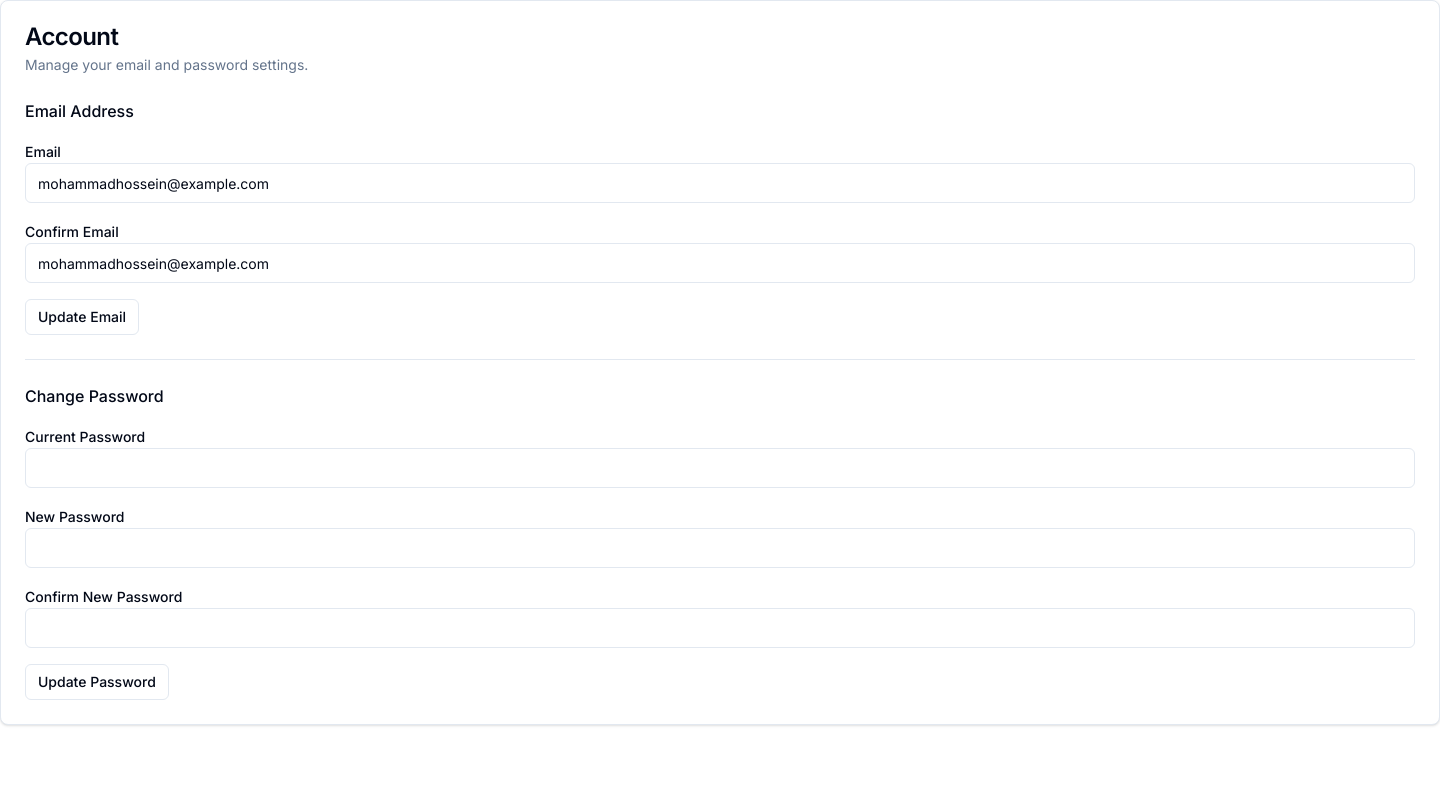
Test: AccountTab › validates the email form
Clear the field labelled "Email" at [720, 183], box top-left (25, 163), bottom-right (1415, 203)
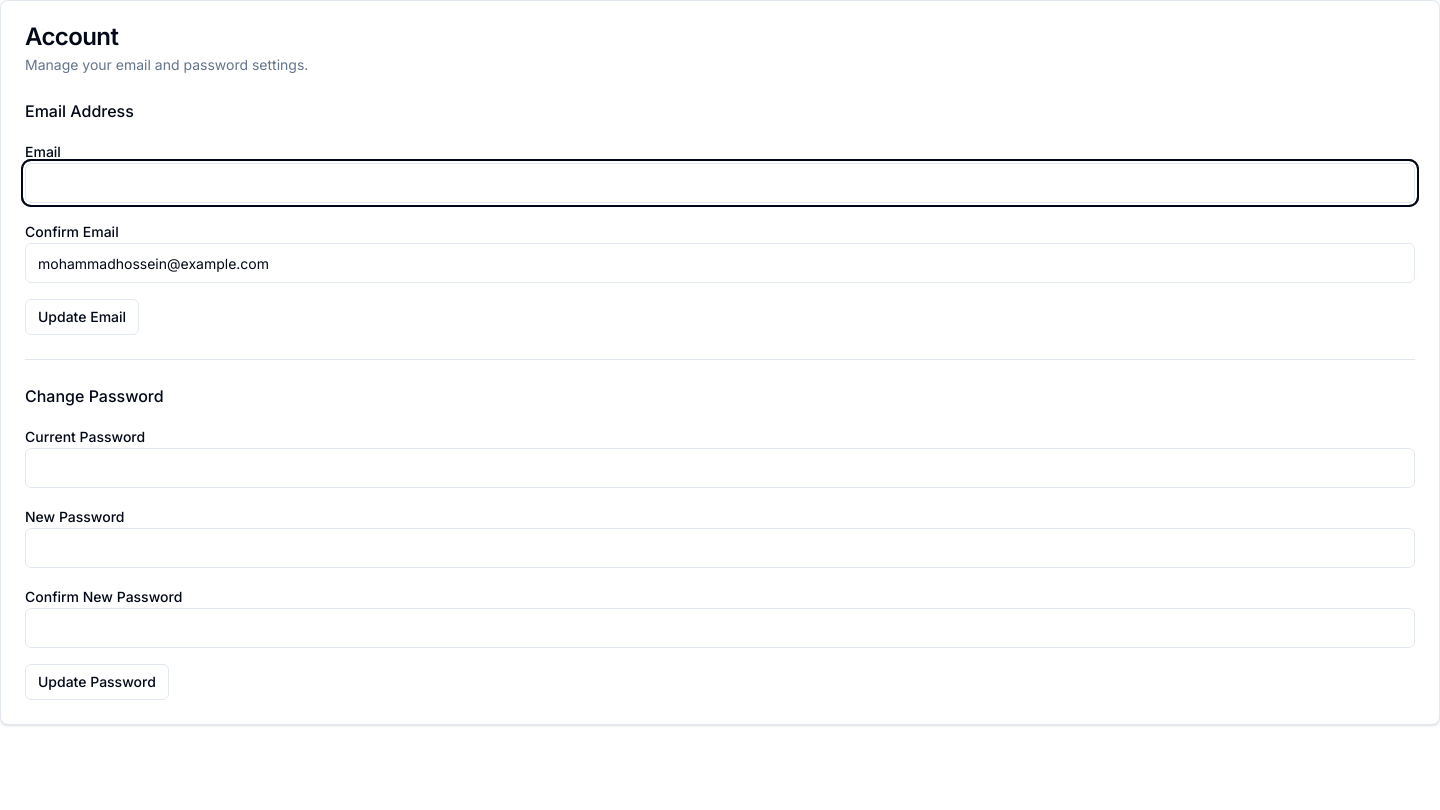
Click the button "Update Email" at [82, 317], box top-left (25, 299), bottom-right (139, 335)
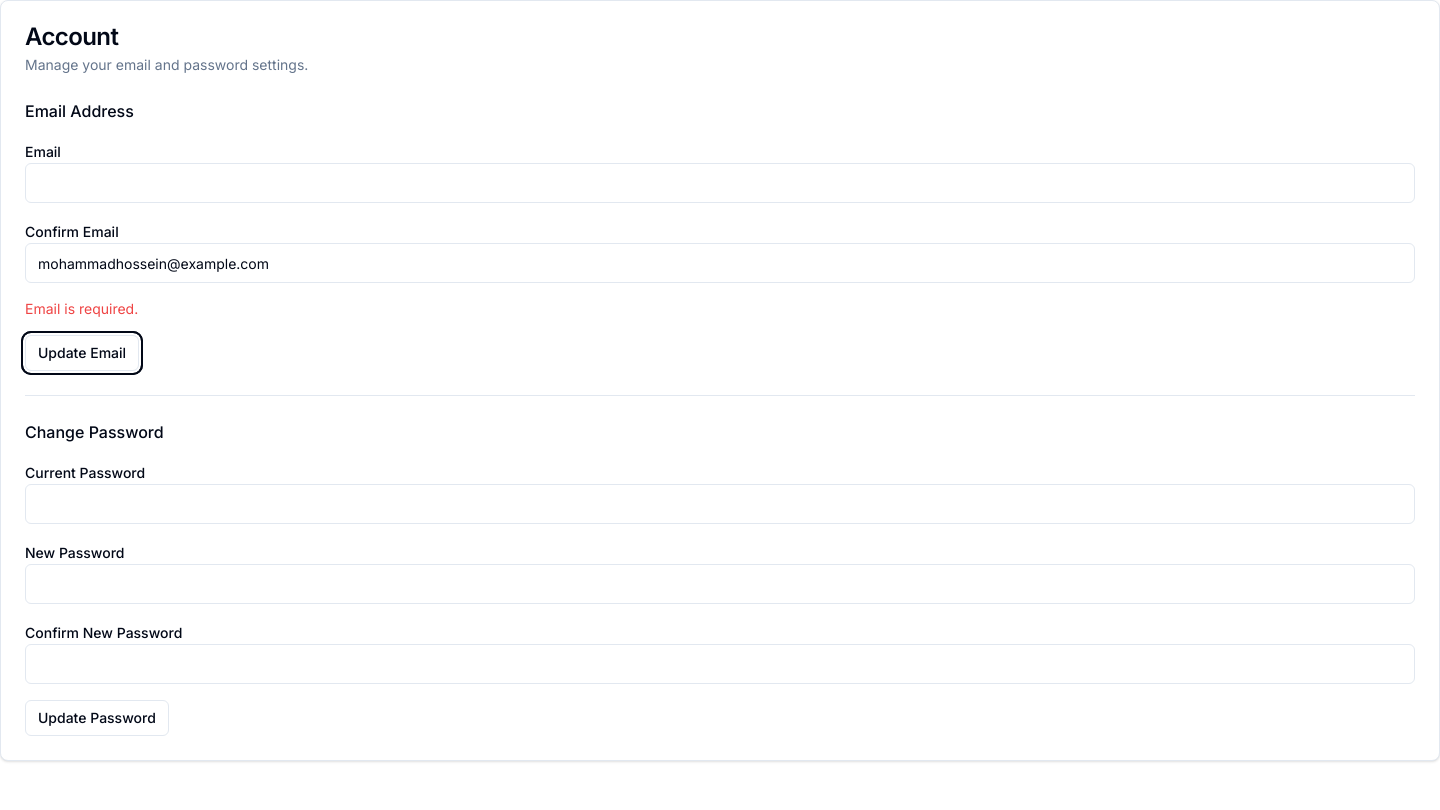
Result: the message reads "Email is required." at top-left (25, 300), bottom-right (138, 317)
Type "arya@example.com" into the field labelled "Email" at [720, 183], box top-left (25, 163), bottom-right (1415, 203)
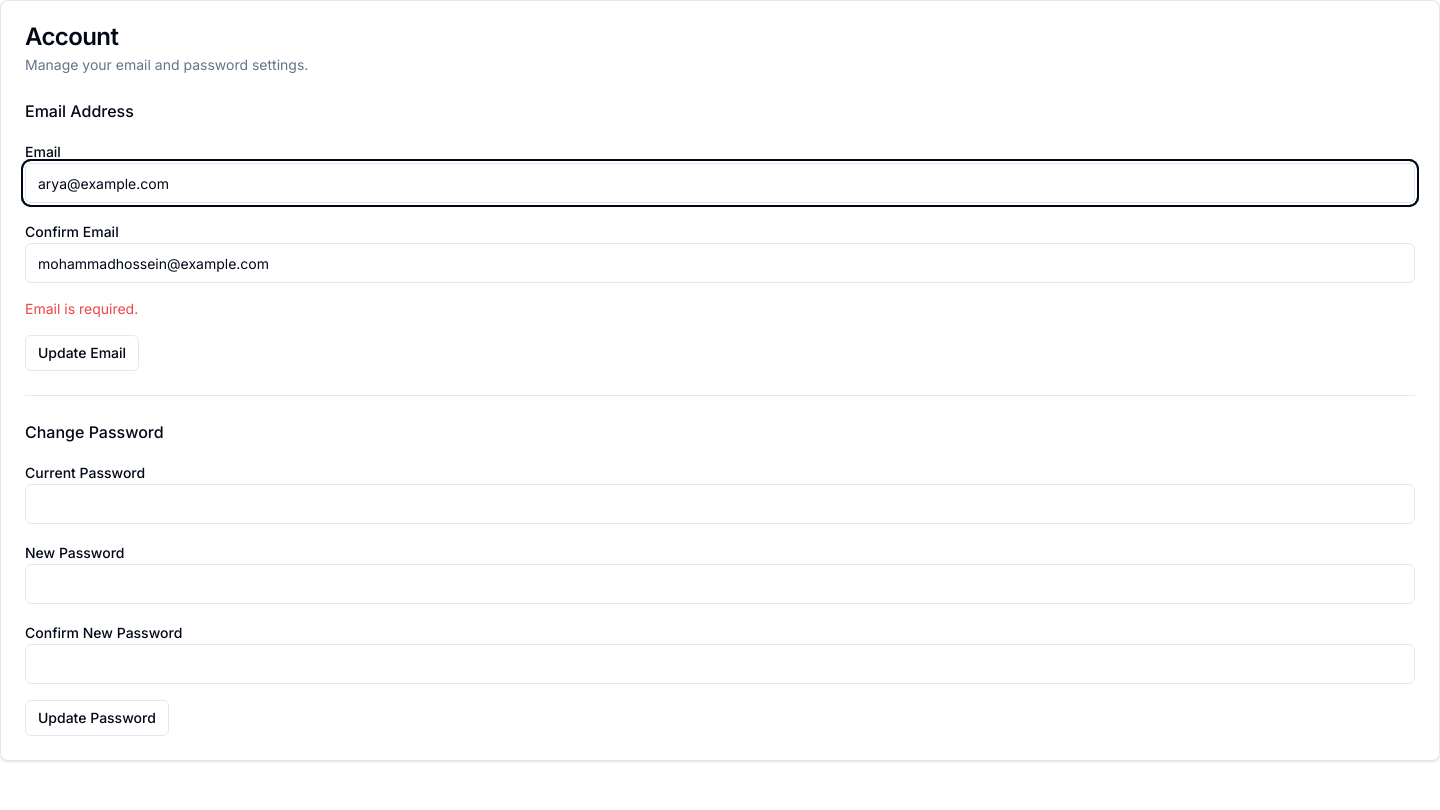
Click the button "Update Email" at [82, 353], box top-left (25, 335), bottom-right (139, 371)
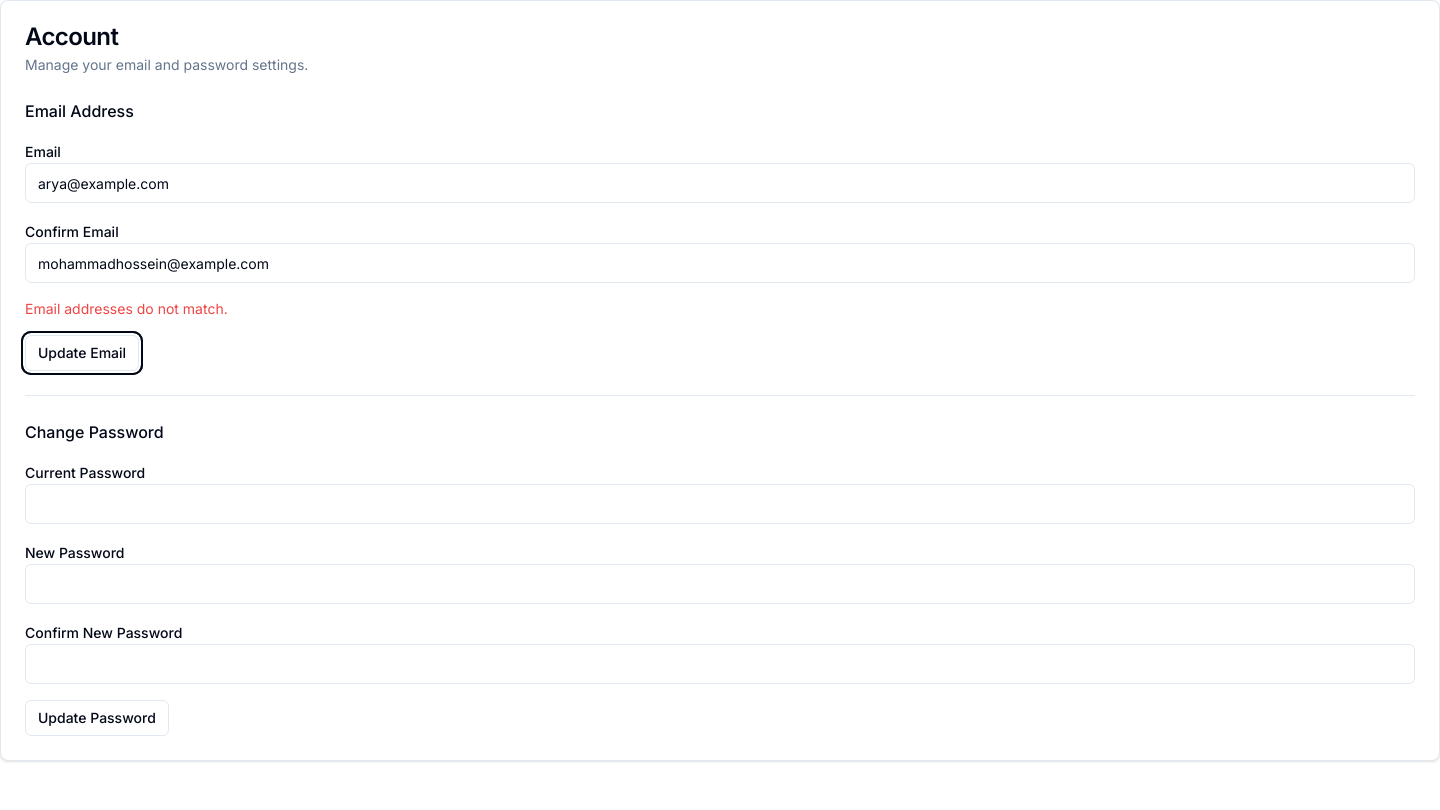
Result: the message reads "Email addresses do not match." at top-left (25, 300), bottom-right (228, 317)
